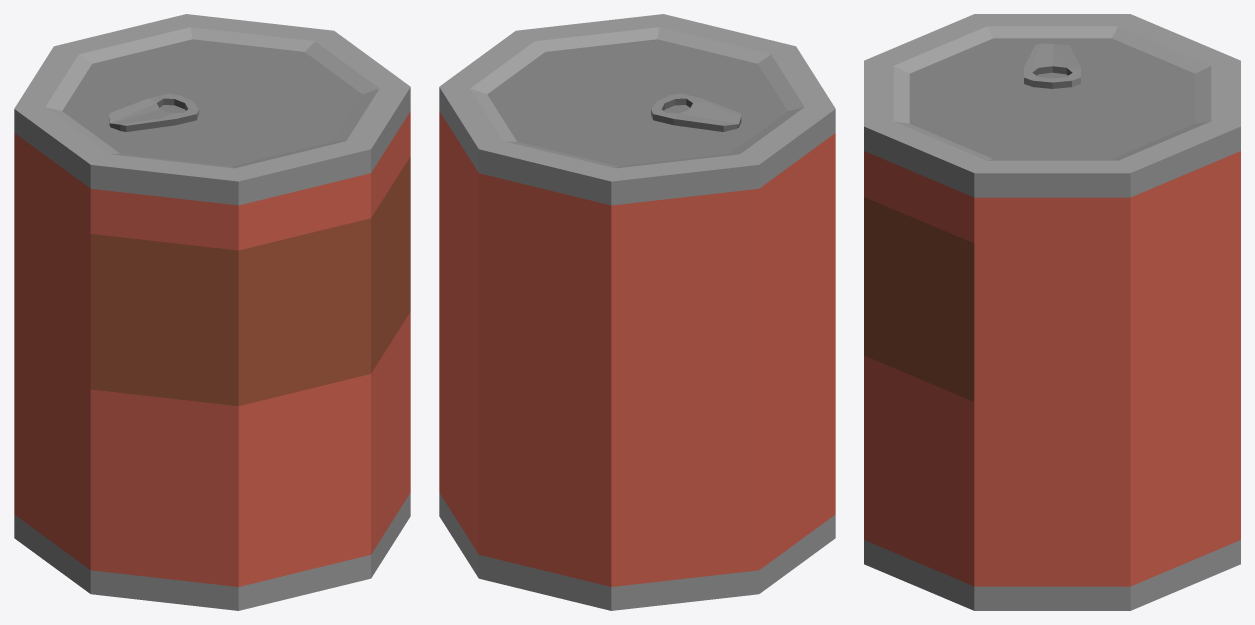
Rendered from CannedFood_01.fbx.
3 renders of one model, left to right at view 1: azimuth 30°, elevation 25°; view 2: azimuth 150°, elevation 25°; view 3: azimuth 270°, elevation 25°, orthographic.
Visible parts, largest first — view 1: CannedFood_01; view 2: CannedFood_01; view 3: CannedFood_01.
Part boxes in pixels (bbox=[...]): CannedFood_01: bbox=[14, 14, 410, 610]; CannedFood_01: bbox=[439, 14, 835, 610]; CannedFood_01: bbox=[864, 14, 1240, 610].
Bounding box in the file's own units: 11.56 × 14.88 × 11.56.
